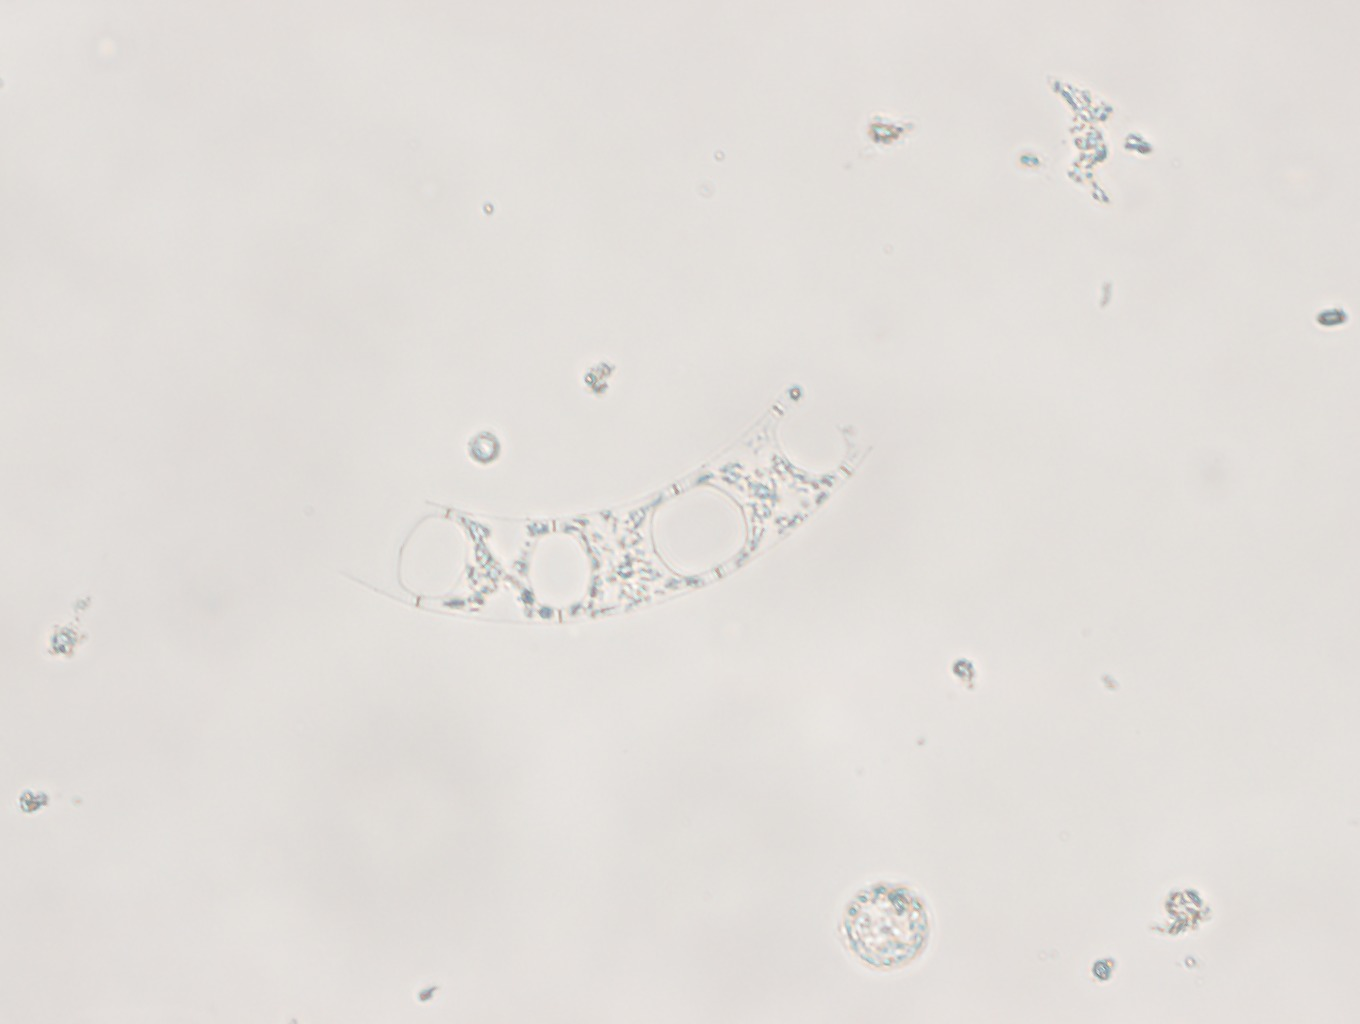eucampia: (355, 385, 882, 640)
